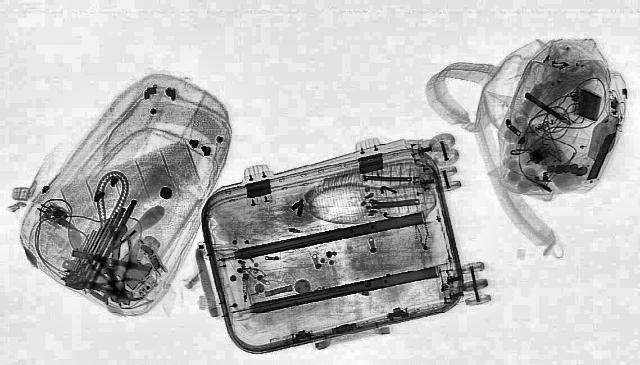Pliers: (61, 274, 148, 300)
Wrench: (102, 224, 128, 278)
